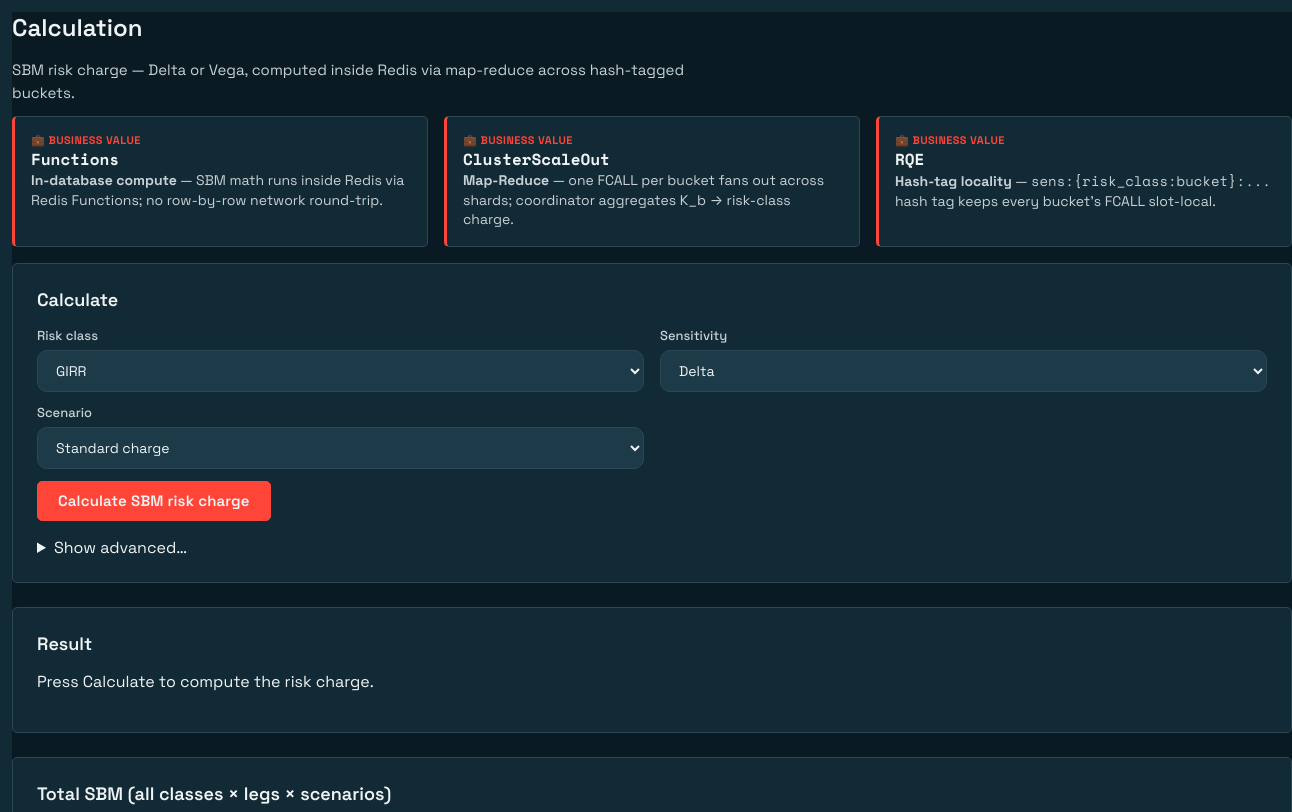
Scenario: <CalcPanel /> friendly empty-target banner (Wave 5.16z3) › unexpected 500 still renders the existing red alert (not swallowed)
Click the button "Calculate SBM risk charge": (154, 501) [37, 481, 271, 521]
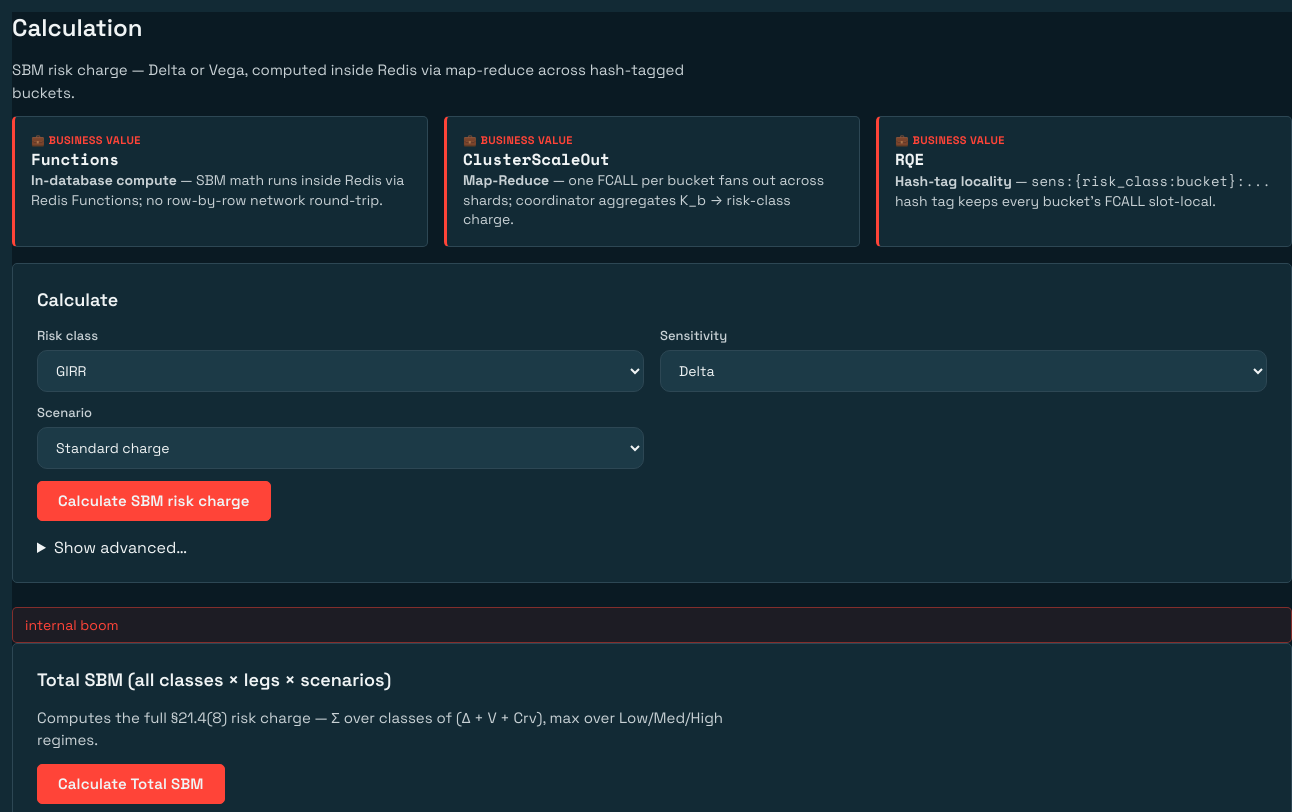
Now the message reads "internal boom", box [25, 616, 119, 634]
